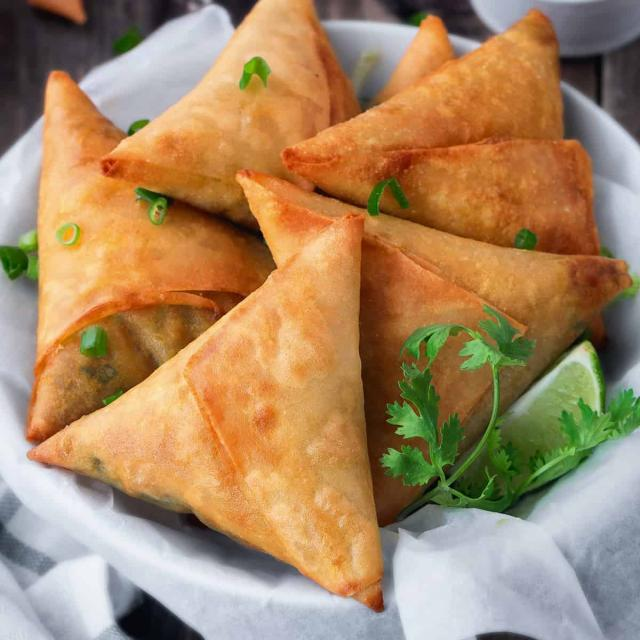SAMOSA: (30, 171, 630, 610), (30, 172, 383, 610), (36, 71, 272, 375), (103, 0, 360, 229), (290, 11, 562, 204), (293, 140, 599, 254)
